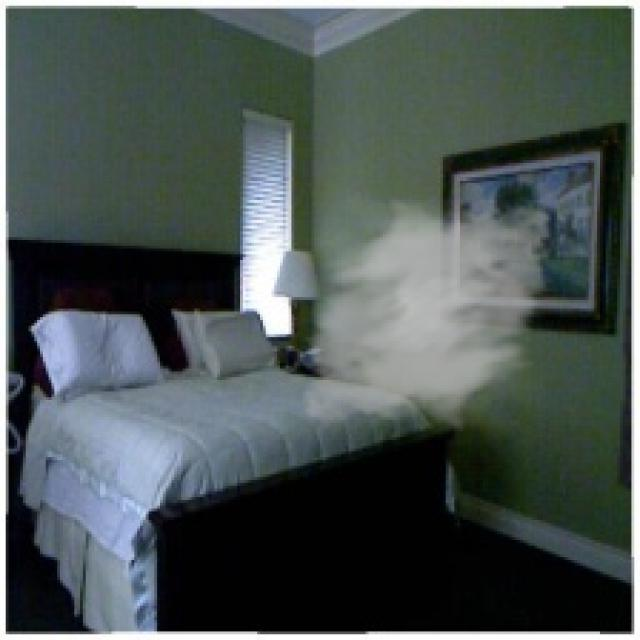smoke: (291, 185, 563, 448)
